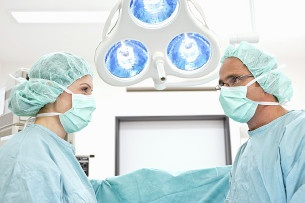Mask: (54, 80, 105, 131)
